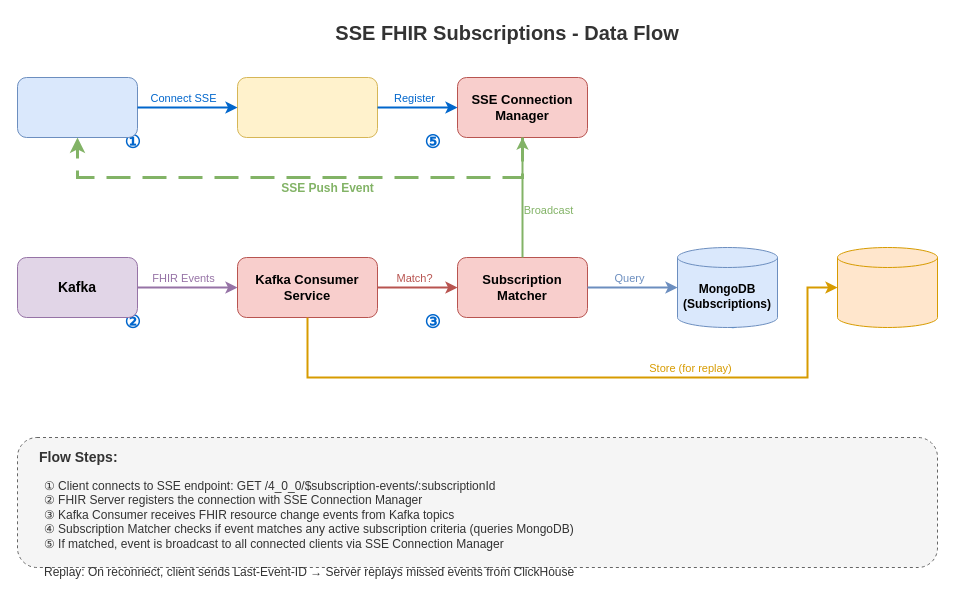
This 955x597 diagram has some shape labels left out. Here are the shapes that lost their labels. From the top down, the box of each, then its label:
(16, 76, 138, 138): FHIR Client
(236, 76, 378, 138): FHIR Server (Express.js)
(836, 246, 938, 328): ClickHouse (Event Replay)
